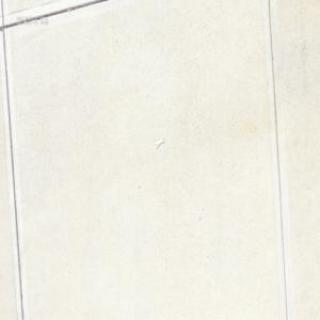Wrenchtrack_idkeyframe: (154, 138, 164, 149)
